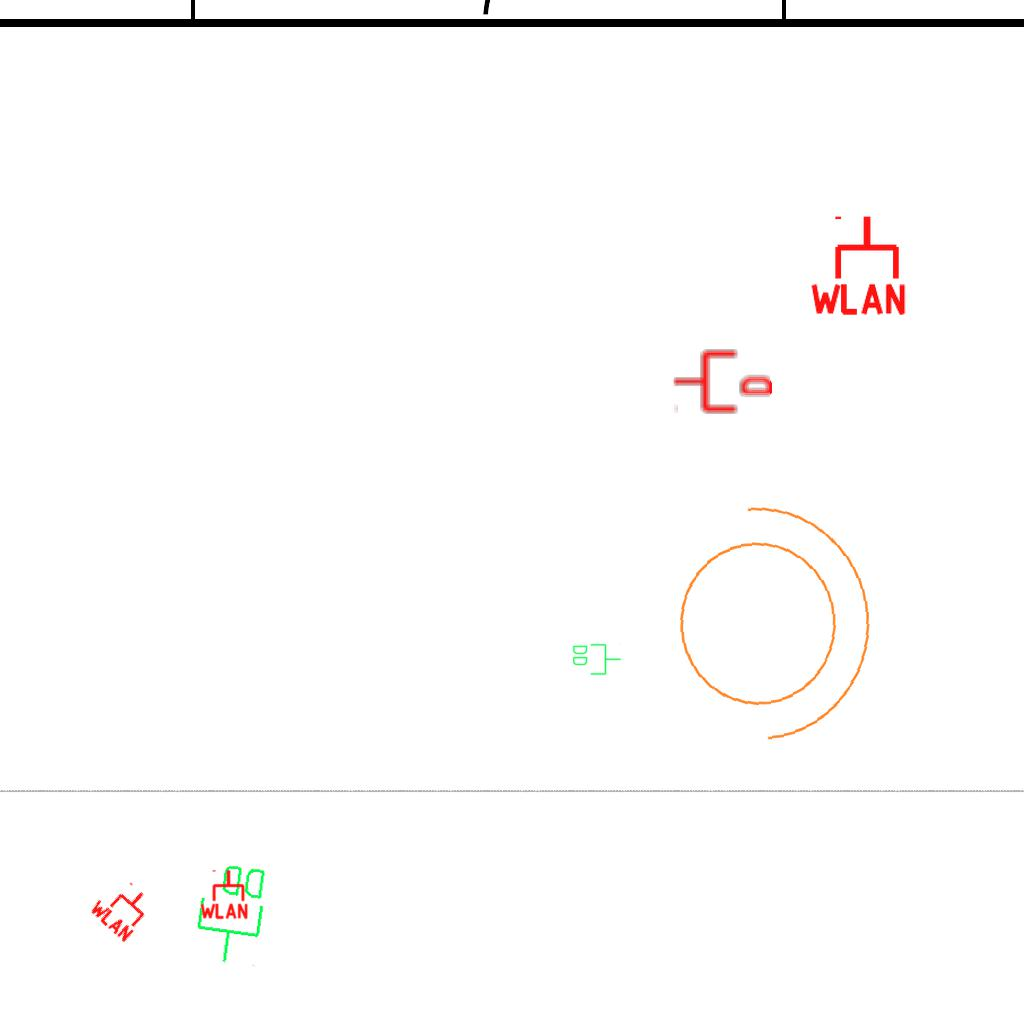Datenanschluss_einfach: (672, 347, 772, 416)
Datenanschluss_zweifach: (190, 857, 273, 970), (571, 642, 622, 676)
Scheinwerfer_fuer_Alarmbeleuchtung: (643, 475, 891, 758)
WLAN: (806, 212, 910, 317), (86, 871, 160, 945), (198, 868, 250, 920)
